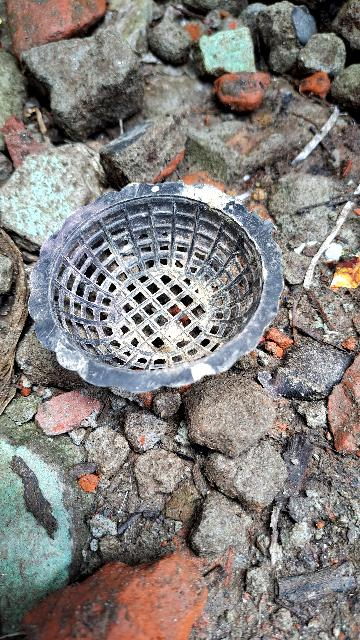hardplastic: (30, 175, 286, 392)
